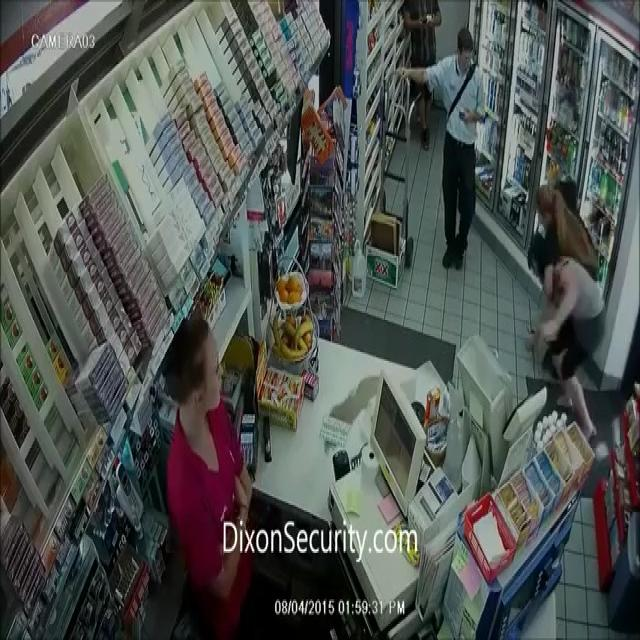fight: (522, 171, 609, 449)
